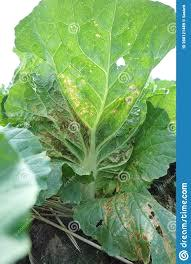Bok-Choy-Diseased: (90, 183, 168, 258)
